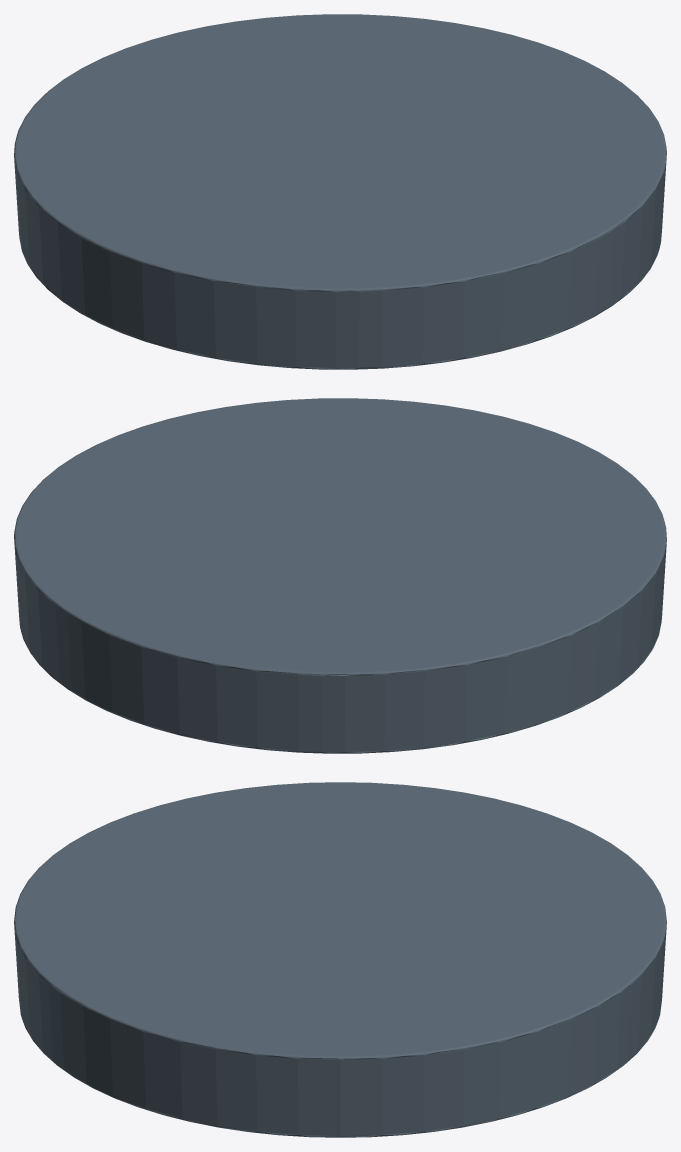
3 views of the same model, one above another, from view 1: azimuth 30°, elevation 25°; view 2: azimuth 150°, elevation 25°; view 3: azimuth 270°, elevation 25° (orthographic).
Parts seen in each view (by area): view 1: A0509_3_0; view 2: A0509_3_0; view 3: A0509_3_0.
Boxes of the visible parts, <box> form: A0509_3_0: <box>14,14,666,369</box>; A0509_3_0: <box>14,398,666,753</box>; A0509_3_0: <box>14,782,666,1137</box>.
Bounding box in the file's own units: 117 × 117 × 16.5.
